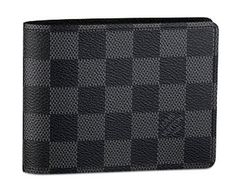monedero: (21, 15, 221, 176)
